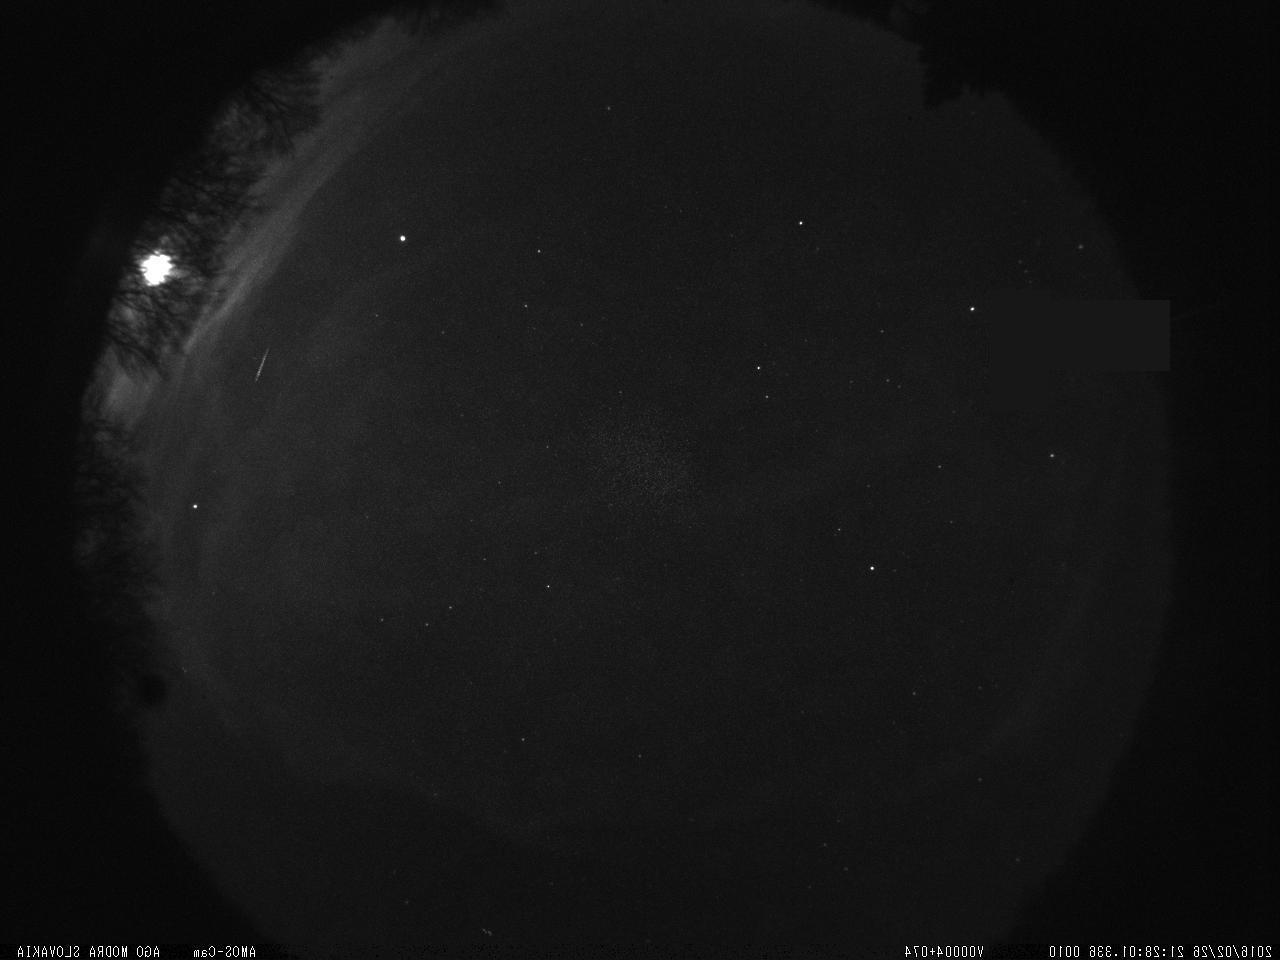meteor: (243, 333, 287, 389)
